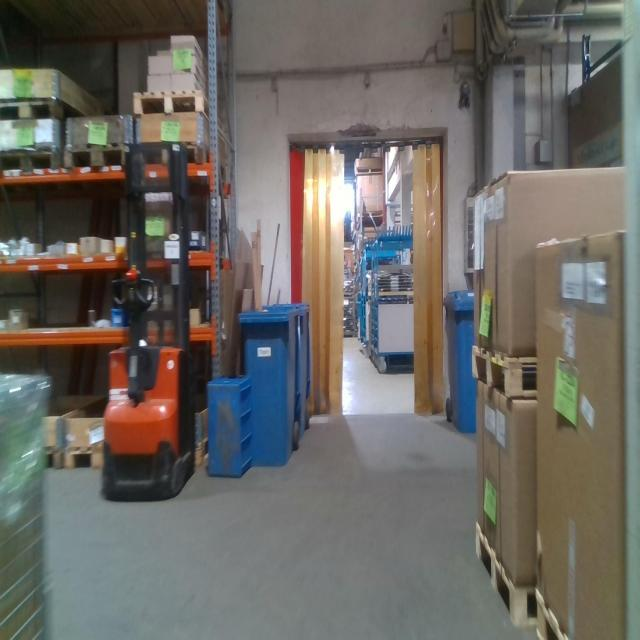pallet: (475, 520, 535, 628), (132, 87, 226, 138), (472, 340, 538, 405), (135, 140, 227, 183), (0, 91, 88, 130), (64, 135, 132, 174), (1, 142, 63, 182), (535, 592, 579, 638), (62, 445, 106, 471), (192, 436, 215, 471), (38, 448, 62, 479)
pallet_truck: (98, 126, 203, 507)
stillage: (2, 367, 59, 640)
